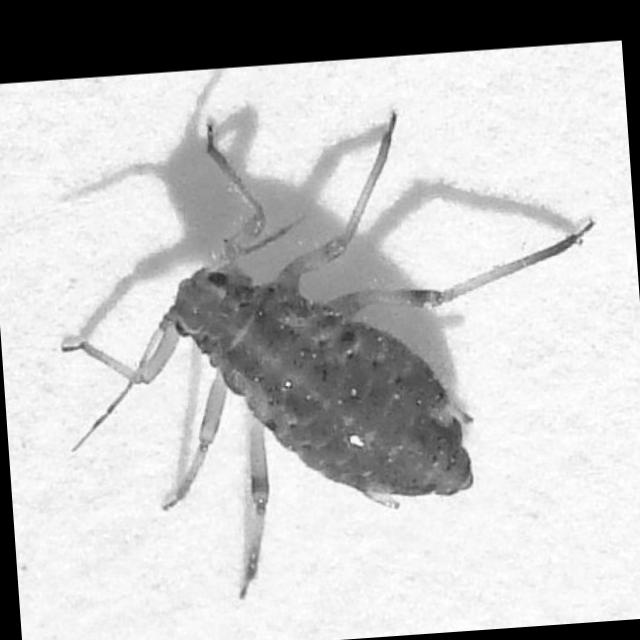Aphids: (42, 82, 607, 584)
